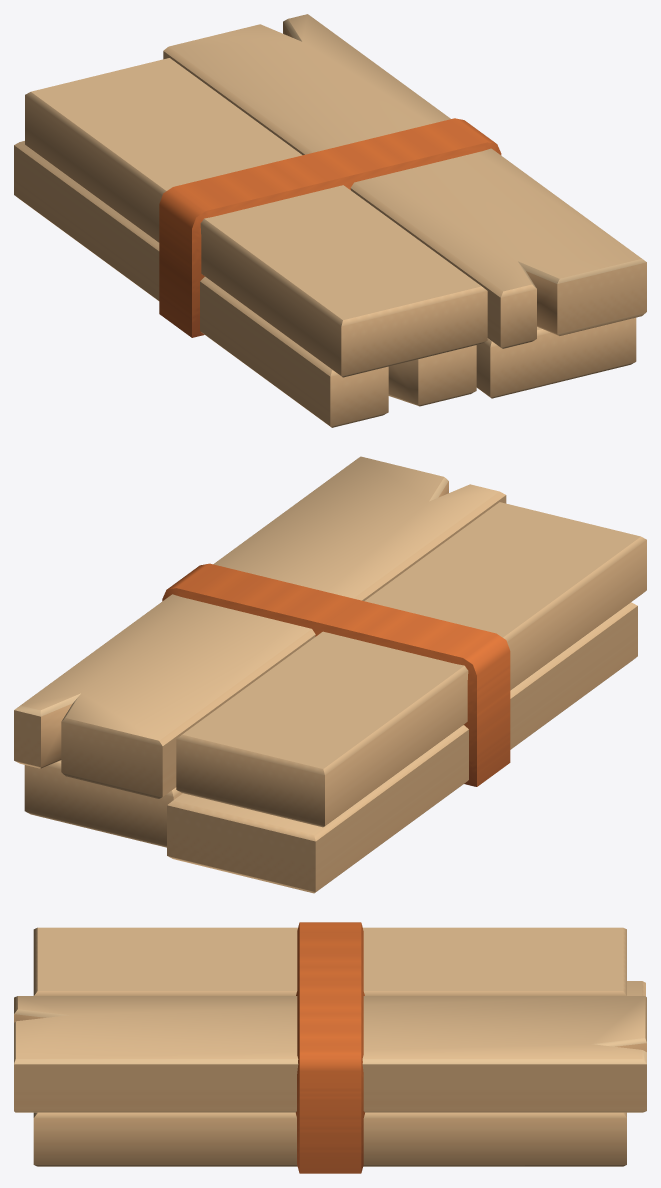
File: Wood_Planks_Stack_Small.gltf
3 renders of one model, top to bottom at view 1: azimuth 30°, elevation 25°; view 2: azimuth 150°, elevation 25°; view 3: azimuth 270°, elevation 25°, orthographic. The views are drawn at different scales.
Visible parts, largest first — view 1: Wood_Planks_Stack_Small; view 2: Wood_Planks_Stack_Small; view 3: Wood_Planks_Stack_Small.
Part boxes in pixels (x1,y1,x2,y2): Wood_Planks_Stack_Small: (14,14,646,427); Wood_Planks_Stack_Small: (14,456,646,893); Wood_Planks_Stack_Small: (14,922,646,1173).
Bounding box in the file's own units: 0.8461 × 0.3232 × 1.6.
Materials: 1 (1 with a texture image).
